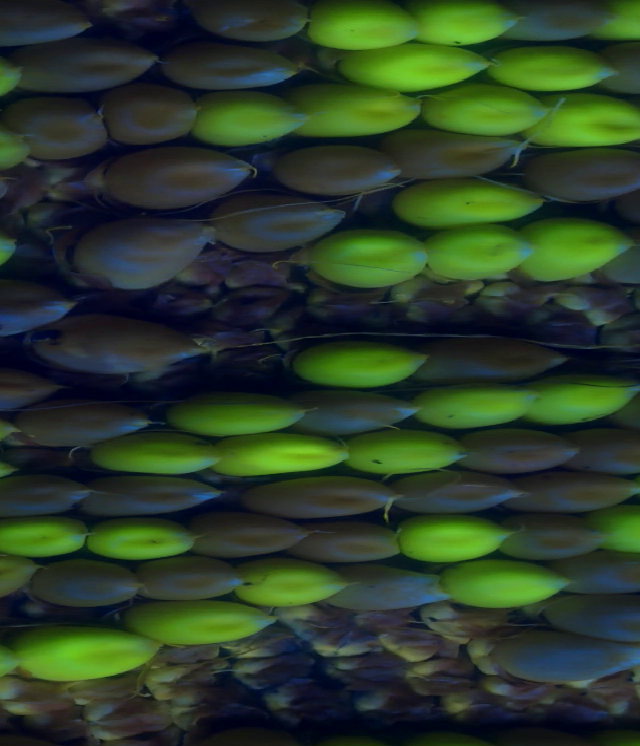fluorescent: (14, 627, 155, 691), (308, 230, 431, 289), (517, 218, 626, 282), (295, 336, 421, 389), (417, 87, 544, 136), (423, 229, 533, 285), (394, 182, 539, 223), (299, 85, 421, 133), (137, 600, 272, 643), (217, 436, 349, 479), (310, 1, 419, 52), (533, 376, 640, 427), (542, 95, 640, 149), (446, 560, 565, 604), (101, 434, 217, 479), (336, 49, 485, 84), (201, 94, 307, 143), (169, 398, 301, 433), (349, 433, 469, 471), (498, 49, 604, 91), (399, 517, 507, 558), (234, 571, 346, 610), (92, 521, 204, 559), (426, 1, 507, 50), (0, 520, 97, 560), (420, 389, 540, 421), (599, 507, 640, 549), (0, 111, 30, 166), (601, 1, 640, 43)
nonfluorescent: (76, 217, 217, 288), (98, 143, 250, 198), (40, 316, 198, 368), (153, 33, 301, 84), (215, 194, 340, 252), (13, 37, 156, 87), (491, 633, 640, 678), (430, 331, 562, 381), (18, 395, 163, 440), (272, 140, 398, 189), (389, 129, 520, 173), (40, 566, 155, 614), (99, 89, 197, 143), (257, 478, 407, 513), (457, 427, 576, 471), (517, 155, 640, 197), (21, 91, 111, 147), (92, 475, 220, 510), (0, 2, 99, 47), (204, 1, 315, 40), (199, 513, 298, 555), (505, 1, 611, 39), (546, 595, 640, 637), (510, 475, 633, 507), (344, 568, 447, 605), (0, 478, 97, 517), (311, 394, 410, 430), (302, 524, 399, 560), (0, 352, 59, 408), (513, 521, 599, 559), (143, 565, 230, 600), (0, 279, 69, 323), (550, 559, 640, 592), (415, 473, 508, 504), (578, 426, 640, 471)
